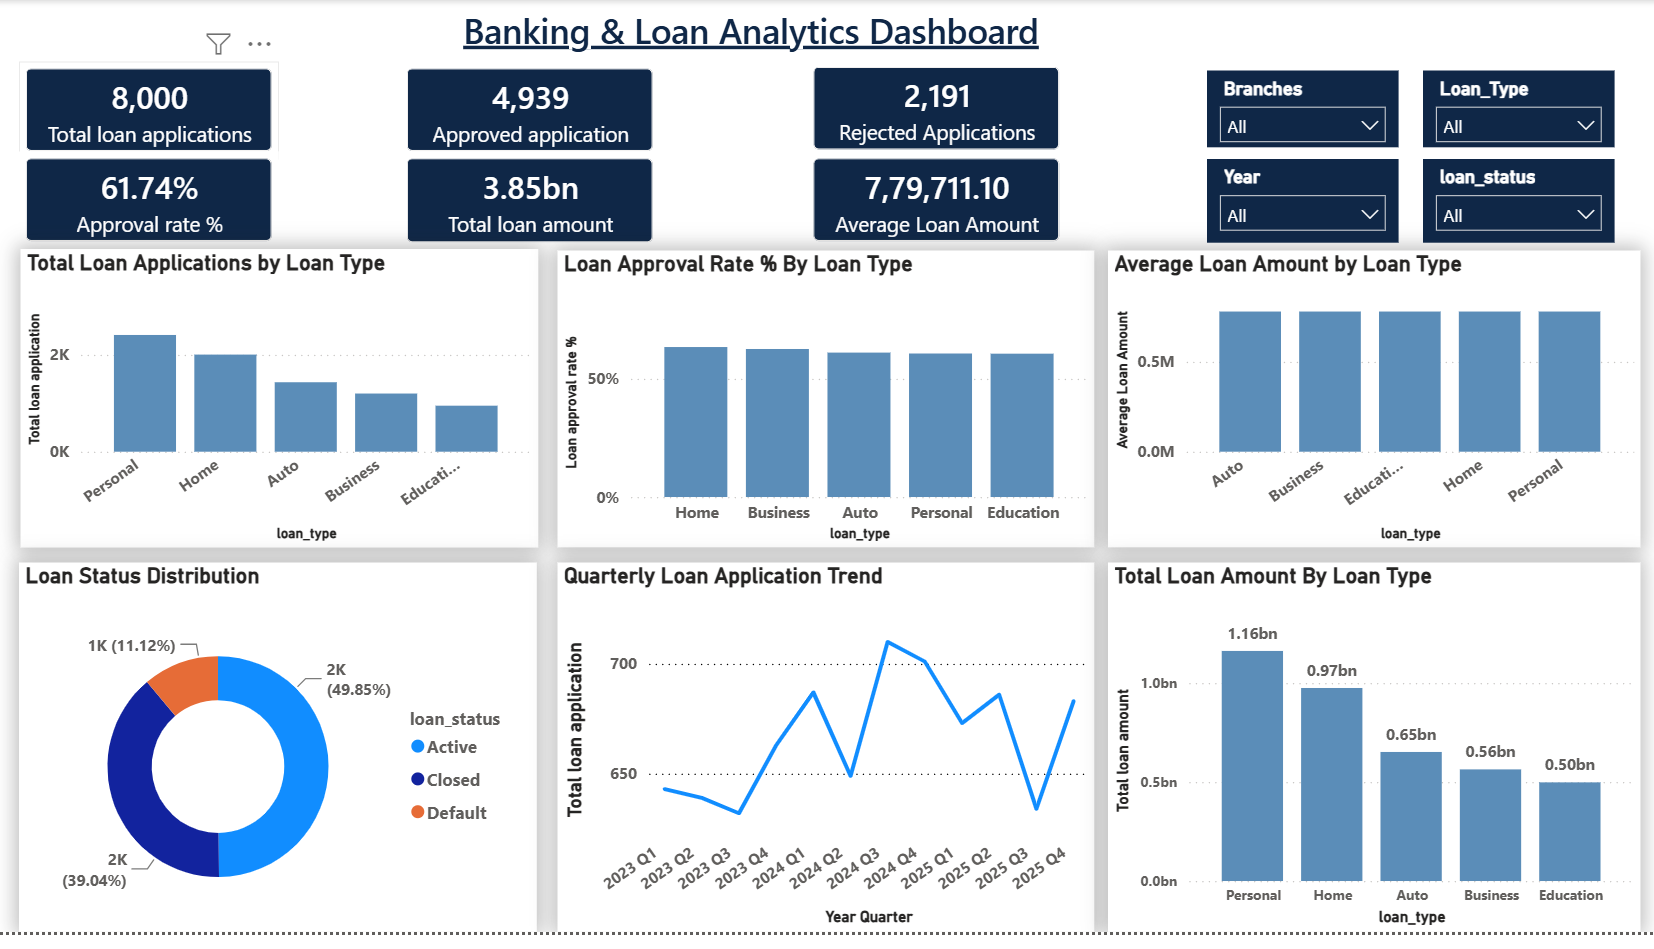

The page's visual inventory and layout, read from the dashboard file:
{"tool":"powerbi","page":{"name":"Loan Portfolio Analysis","canvas":[1280,720],"ordinal":1},"visuals":[{"type":"textbox","box":[352.3,0,458.9,47.5],"z":0},{"type":"cardVisual","fields":{"Data":["loan_applications.Total loan application"]},"box":[16.2,47.5,200.6,74.8],"z":1},{"type":"cardVisual","fields":{"Data":["loan_applications.Rejected Applications"]},"box":[624.6,46.3,200.6,74.8],"z":2},{"type":"cardVisual","fields":{"Data":["loan_applications.Loan approval rate %"]},"box":[16.2,117,200.6,74.8],"z":3},{"type":"cardVisual","fields":{"Data":["loan_applications.Approved application"]},"box":[310.5,47.5,200.6,74.8],"z":4},{"type":"cardVisual","fields":{"Data":["loans.Average Loan Amount"]},"box":[624.6,117,200.6,74.8],"z":5},{"type":"cardVisual","fields":{"Data":["loans.Total loan amount"]},"box":[310.5,117,200.5,75.3],"z":6},{"type":"clusteredColumnChart","title":"Total Loan Applications by Loan Type","fields":{"Category":["loan_applications.loan_type"],"Y":["loan_applications.Total loan application"]},"box":[17.4,192.3,399.8,230.6],"z":7},{"type":"clusteredColumnChart","title":"Loan Approval Rate % By Loan Type","fields":{"Category":["loan_applications.loan_type"],"Y":["loan_applications.Loan approval rate %"]},"box":[432.2,193.5,414.8,229.4],"z":8},{"type":"clusteredColumnChart","title":"Average Loan Amount by Loan Type","fields":{"Category":["loan_applications.loan_type"],"Y":["loans.Average Loan Amount"]},"box":[857.5,193.5,411.3,229.4],"z":9},{"type":"donutChart","title":"Loan Status Distribution","fields":{"Category":["loans.loan_status"],"Y":["loan_applications.Total Loan"]},"box":[16.2,434.5,399.8,285],"z":10},{"type":"lineChart","title":"Quarterly Loan Application Trend","fields":{"Y":["loan_applications.Total loan application"],"Category":["DateTable.Year Quarter"]},"box":[432.2,434.5,414.8,285],"z":11},{"type":"clusteredColumnChart","title":"Total Loan Amount By Loan Type","fields":{"Category":["loans.loan_type"],"Y":["loans.Total loan amount"]},"box":[857.5,434.5,411.3,285],"z":12},{"type":"slicer","fields":{"Values":["loans.loan_type"]},"box":[1100.8,54.5,148.3,59.1],"z":13},{"type":"slicer","fields":{"Values":["branches.branch_name"]},"box":[933.9,54.5,148.3,59.1],"z":14},{"type":"slicer","fields":{"Values":["DateTable.Year"]},"box":[933.9,122.8,148.3,64.9],"z":15},{"type":"slicer","fields":{"Values":["loans.loan_status"]},"box":[1100.8,122.8,148.3,64.9],"z":16}]}

Visuals, with their boxes in screenshot pixels (x1, y1, x2, y2), scaled from the page's 1280x720 canvas onto the 1654x949 screenshot:
textbox: l=455, t=0, r=1048, b=63
cardVisual - loan_applications.Total loan application: l=21, t=63, r=280, b=161
cardVisual - loan_applications.Rejected Applications: l=807, t=61, r=1066, b=160
cardVisual - loan_applications.Loan approval rate %: l=21, t=154, r=280, b=253
cardVisual - loan_applications.Approved application: l=401, t=63, r=660, b=161
cardVisual - loans.Average Loan Amount: l=807, t=154, r=1066, b=253
cardVisual - loans.Total loan amount: l=401, t=154, r=660, b=253
"Total Loan Applications by Loan Type" clusteredColumnChart: l=22, t=253, r=539, b=557
"Loan Approval Rate % By Loan Type" clusteredColumnChart: l=558, t=255, r=1094, b=557
"Average Loan Amount by Loan Type" clusteredColumnChart: l=1108, t=255, r=1640, b=557
"Loan Status Distribution" donutChart: l=21, t=573, r=538, b=948
"Quarterly Loan Application Trend" lineChart: l=558, t=573, r=1094, b=948
"Total Loan Amount By Loan Type" clusteredColumnChart: l=1108, t=573, r=1640, b=948
slicer - loans.loan_type: l=1422, t=72, r=1614, b=150
slicer - branches.branch_name: l=1207, t=72, r=1398, b=150
slicer - DateTable.Year: l=1207, t=162, r=1398, b=247
slicer - loans.loan_status: l=1422, t=162, r=1614, b=247
